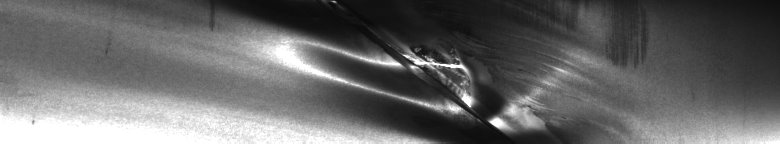ke: (267, 20, 570, 136)
